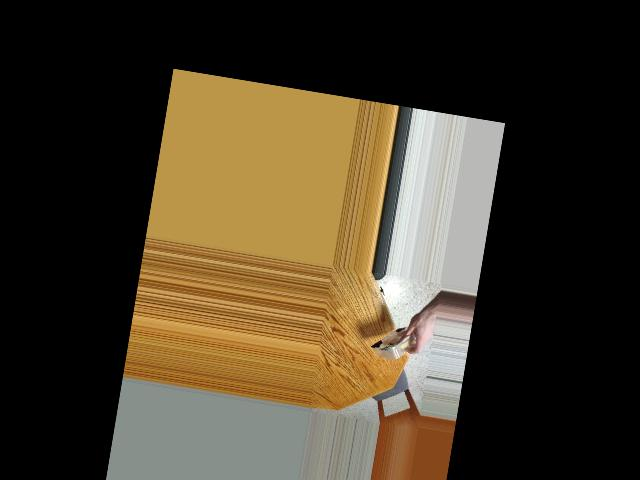cheese: (373, 317, 420, 373)
